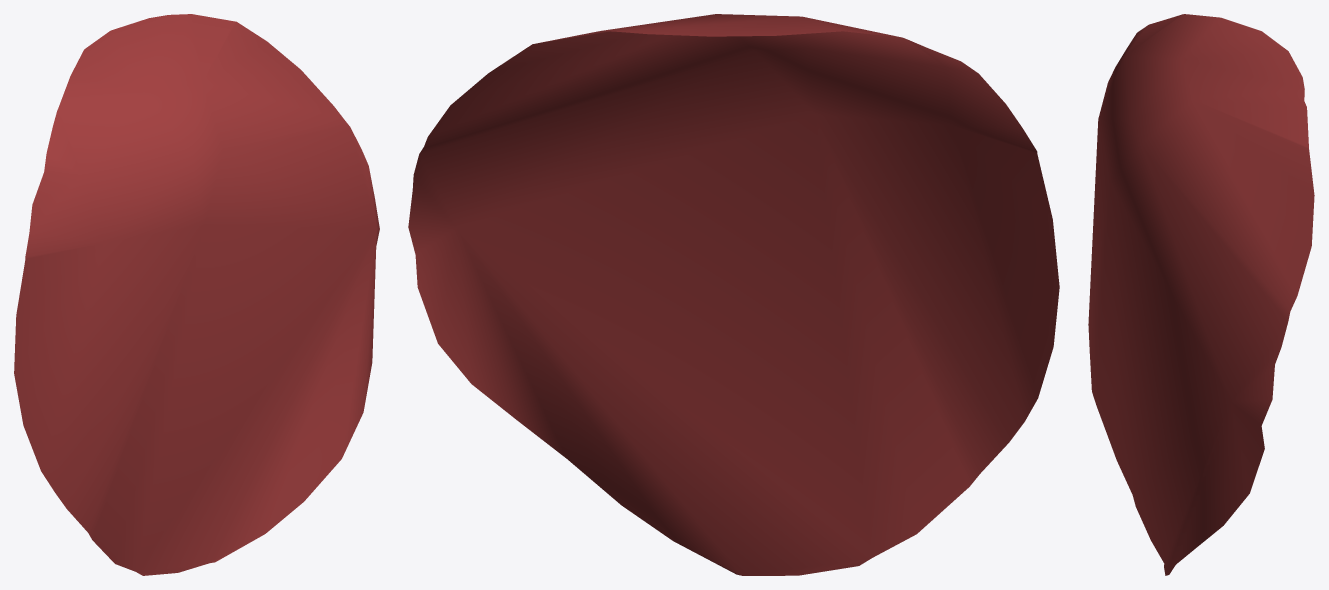
File: flexor-digiti-minimi-of-hand-er.glb
3 views of the same model, side by side, from view 1: azimuth 30°, elevation 25°; view 2: azimuth 150°, elevation 25°; view 3: azimuth 270°, elevation 25° (orthographic). The views are drawn at different scales.
Parts seen in each view (by area): view 1: Flexor digiti minimi of hand.er; view 2: Flexor digiti minimi of hand.er; view 3: Flexor digiti minimi of hand.er.
Part boxes in pixels (<box>): Flexor digiti minimi of hand.er: <box>14,14,379,575</box>; Flexor digiti minimi of hand.er: <box>408,14,1059,575</box>; Flexor digiti minimi of hand.er: <box>1088,14,1314,575</box>.
Size of the model in its own units: 0.00518 by 0.0055 by 0.00228.
